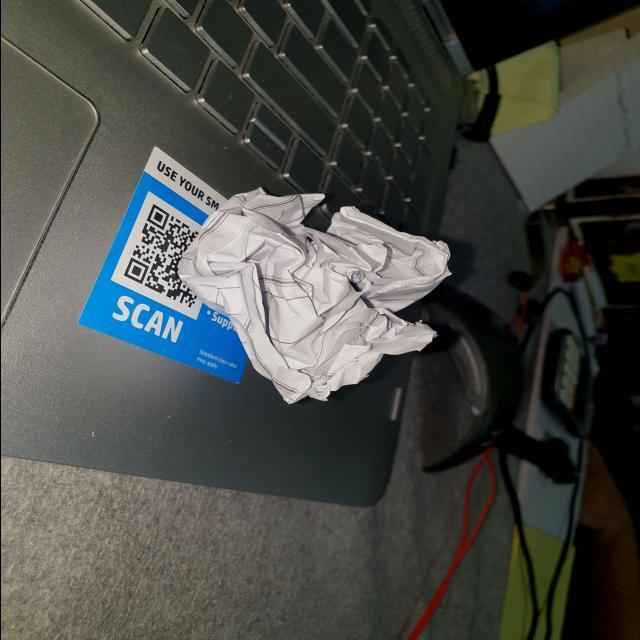Paper: (193, 170, 457, 414)
